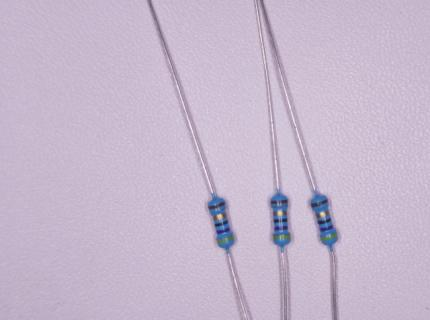Black band: (215, 220, 228, 227), (318, 218, 332, 224), (274, 219, 287, 223)
Brown band: (311, 199, 328, 207), (209, 202, 226, 209), (271, 200, 288, 204)
Gold band: (212, 213, 228, 220), (316, 210, 330, 218), (273, 211, 287, 216)
Violet band: (216, 227, 231, 235), (319, 224, 334, 232), (274, 226, 289, 231)
Yellow band: (320, 232, 338, 241), (217, 235, 234, 244), (273, 235, 291, 240)
